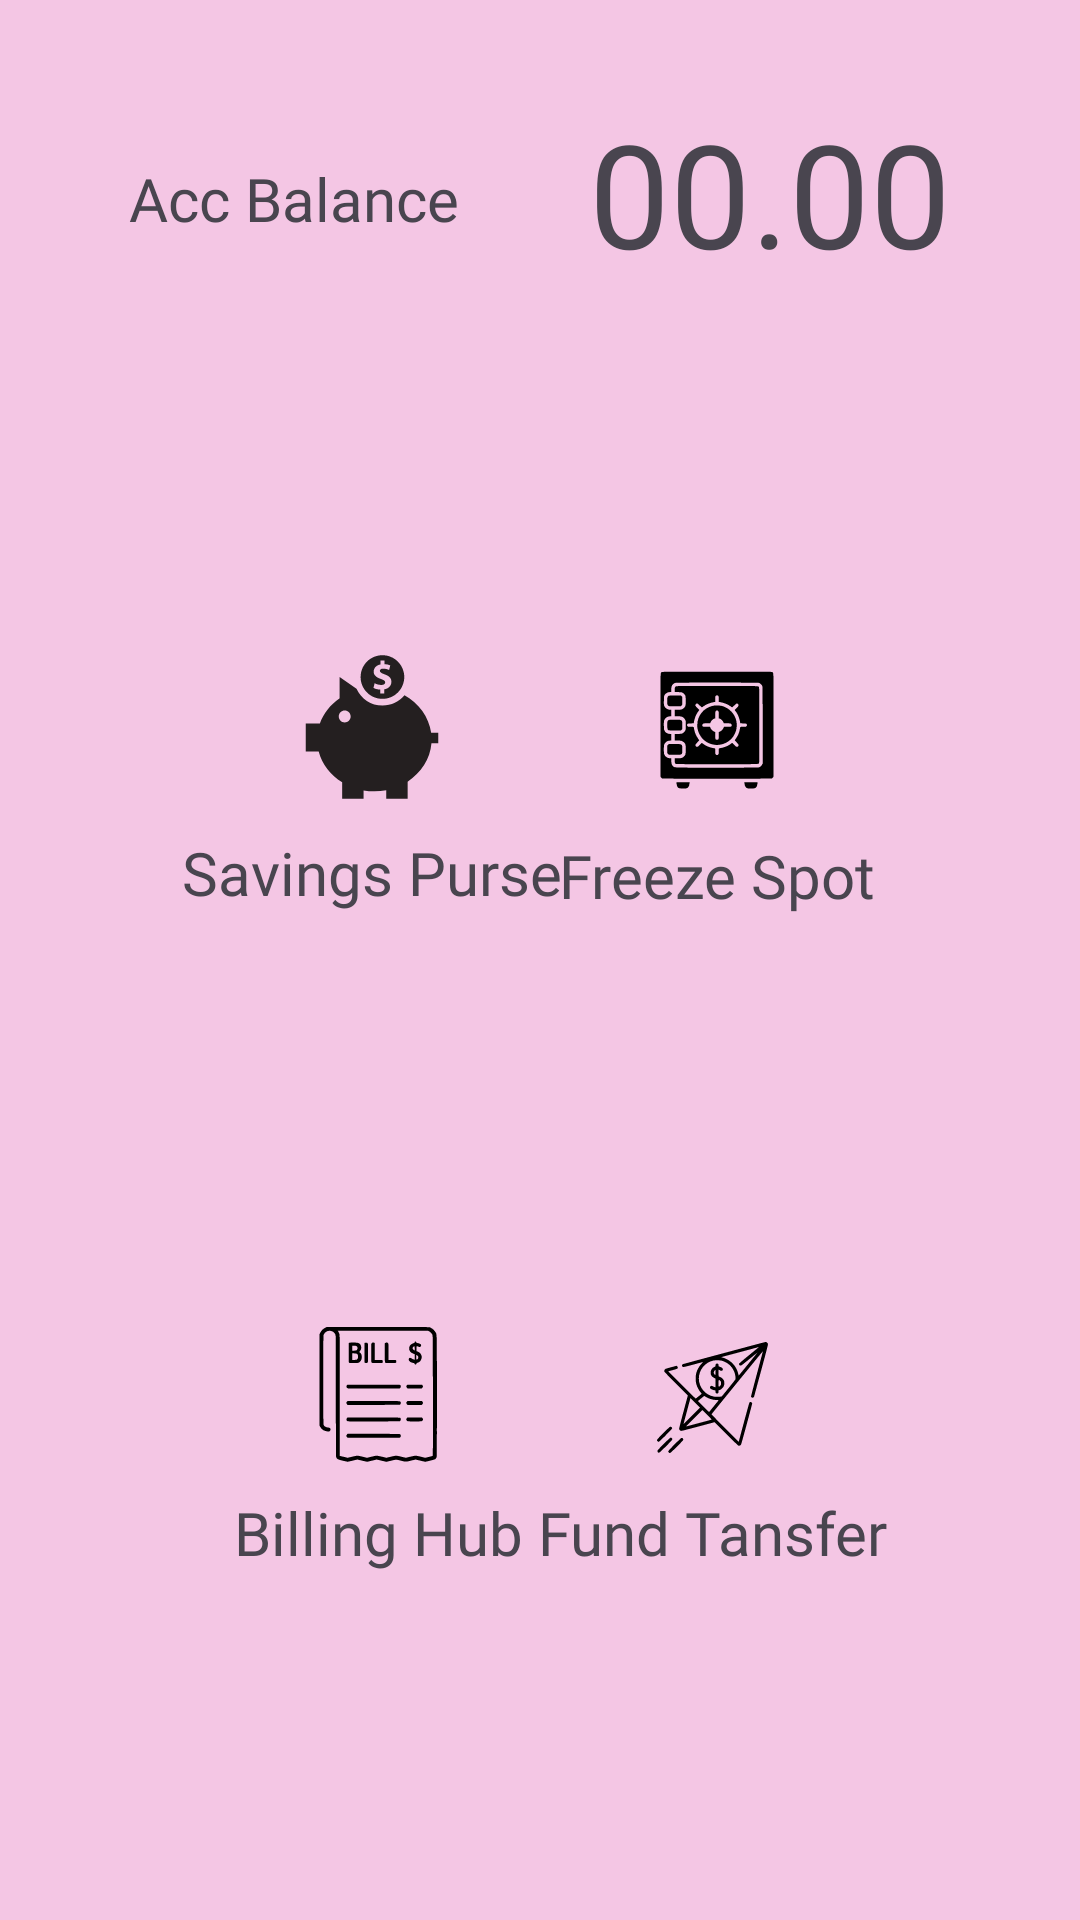

Where to tap for icons on this 1080 x 1920 app screen, as (x=x, y=y):
fund transfer: (x=712, y=1397)
